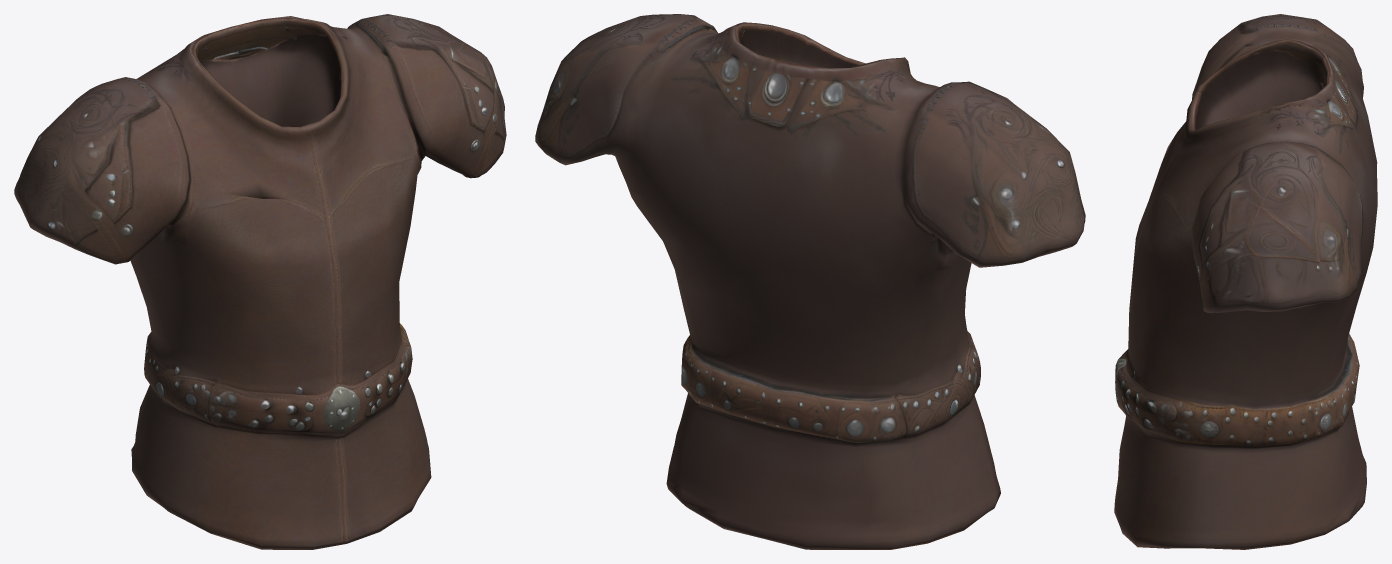
Rendered from body-leather-01-studded-leather.glb.
3 views of the same model, side by side, from view 1: azimuth 30°, elevation 25°; view 2: azimuth 150°, elevation 25°; view 3: azimuth 270°, elevation 25° (orthographic). The views are drawn at different scales.
Size of the model in its own units: 1.98 by 1.84 by 0.9614.
Materials: 1 (1 with a texture image).
